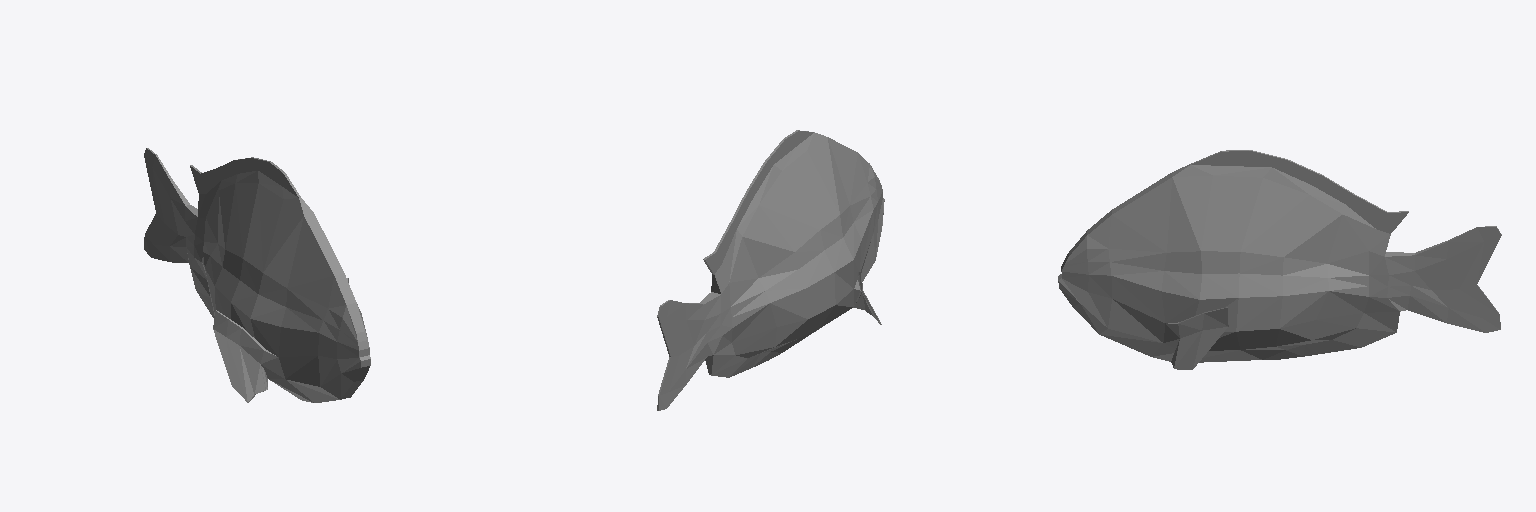
The model's file is TropicalFish13.obj.
3 renders of one model, left to right at view 1: azimuth 30°, elevation 25°; view 2: azimuth 150°, elevation 25°; view 3: azimuth 270°, elevation 25°, orthographic.
Visible parts, largest first — view 1: TropicalFish13; view 2: TropicalFish13; view 3: TropicalFish13.
Part boxes in pixels (x1,y1,x2,y2): TropicalFish13: (144,148,370,402); TropicalFish13: (657,130,884,410); TropicalFish13: (1058,150,1501,369).
Size of the model in its own units: 162 by 238 by 453.